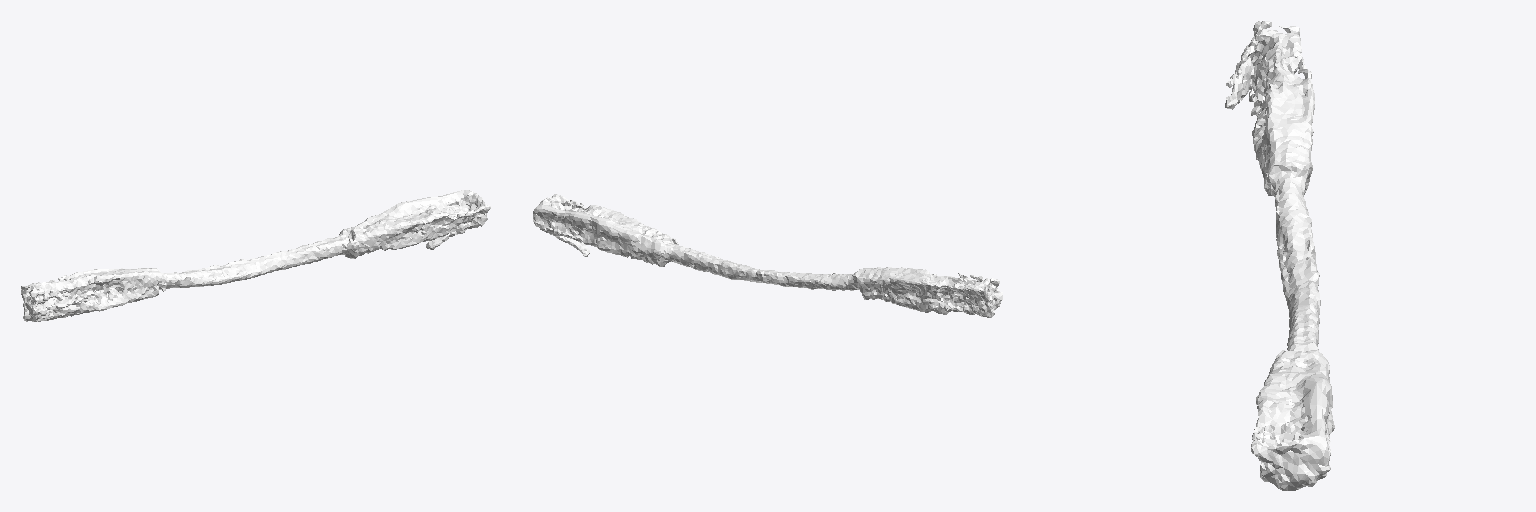
The robot description file, URDF, robot "atb1_conn-ethernet":
<?xml version="0.0" ?>
<robot name="atb1_conn-ethernet">
  <link name="baseLink">
    <contact>
      <friction_anchor/>
      <lateral_friction value="0.8"/>
      <spinning_friction value="0.001"/>
      <rolling_friction value="0.001"/>
      <contact_cfm value="0.0"/>
      <contact_erp value="0.2"/>
    </contact>
    <inertial>
       <origin rpy="0 0 0" xyz="0 0 0"/>
       <mass value="0.01"/>
       <inertia ixx="1e-3" ixy="0" ixz="0" iyy="1e-3" iyz="0" izz="1e-3"/>
    </inertial>
    <visual>
      <origin rpy="0 0 0" xyz="0 0 0"/>
      <geometry>
        <mesh filename="obj/fused_model.obj" scale="1 1 1"/>
      </geometry>
      <material name="white">
        <color rgba="1. 1. 1. 1."/>
      </material>
    </visual>
    <collision>
      <origin rpy="0 0 0" xyz="0 0 0"/>
      <geometry>
        <mesh filename="obj/fused_model.obj" scale="1 1 1"/>
      </geometry>
    </collision>
  </link>
</robot>

--- Render facts (derived) ---
The picture shows the robot from 3 angles, left to right: view 1: azimuth 30°, elevation 25°; view 2: azimuth 150°, elevation 25°; view 3: azimuth 270°, elevation 25°; orthographic projection.
Robot: atb1_conn-ethernet — 1 links, 0 joints (none); root link baseLink; default pose: every joint at zero.
Visible links, largest first — view 1: baseLink; view 2: baseLink; view 3: baseLink.
Link boxes in pixels (<box>): baseLink: <box>21,190,490,321</box>; baseLink: <box>533,194,1002,317</box>; baseLink: <box>1225,21,1334,490</box>.
Size in the robot's own frame: 0.1462 by 0.0173 by 0.0208 metres.
Meshes: 1 distinct files referenced, 1 mesh visuals loaded (1 OBJ).
